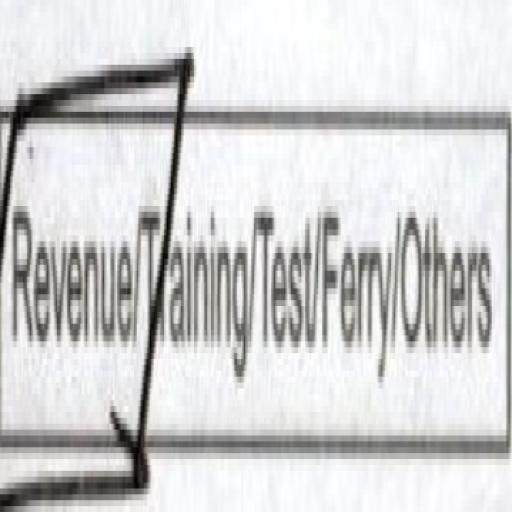check: (1, 22, 144, 512)
